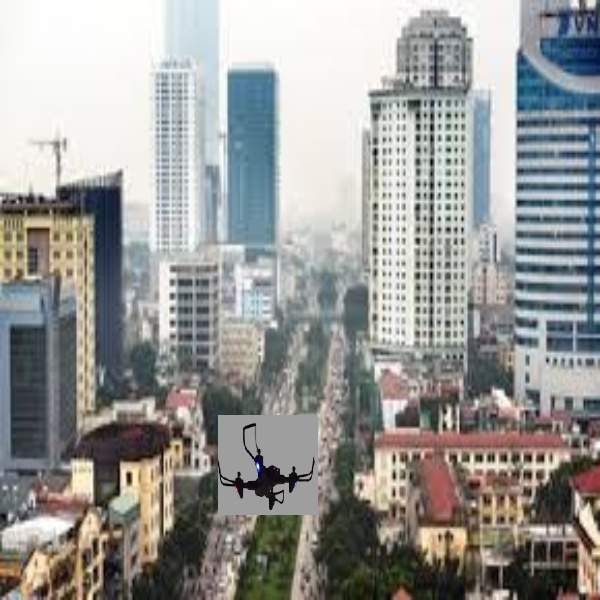drone: (217, 416, 318, 509)
